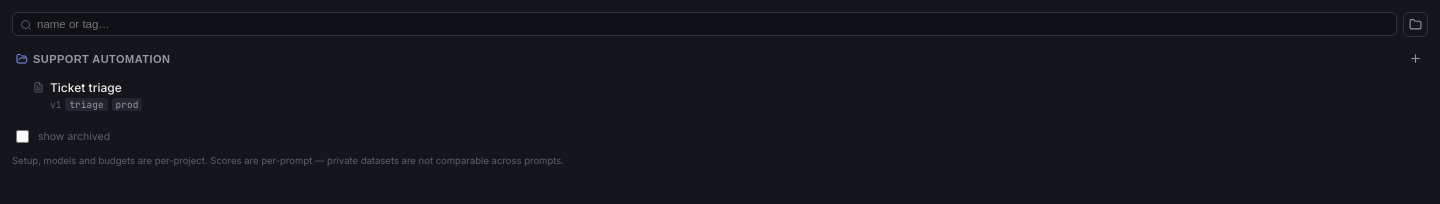
Test: ProjectTree › shows an inline error message when creating a project fails
Click the button titled "New project". click: x=1416, y=24
box: [1403,12,1428,37]
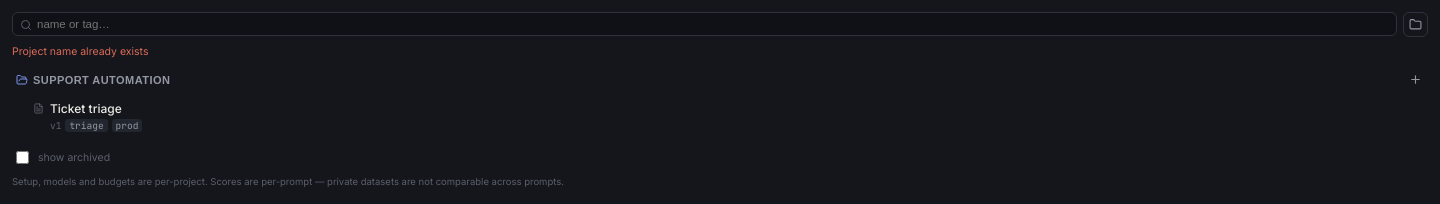
Check: the text "Project name already exists" is shown, box [12,45,148,58]
